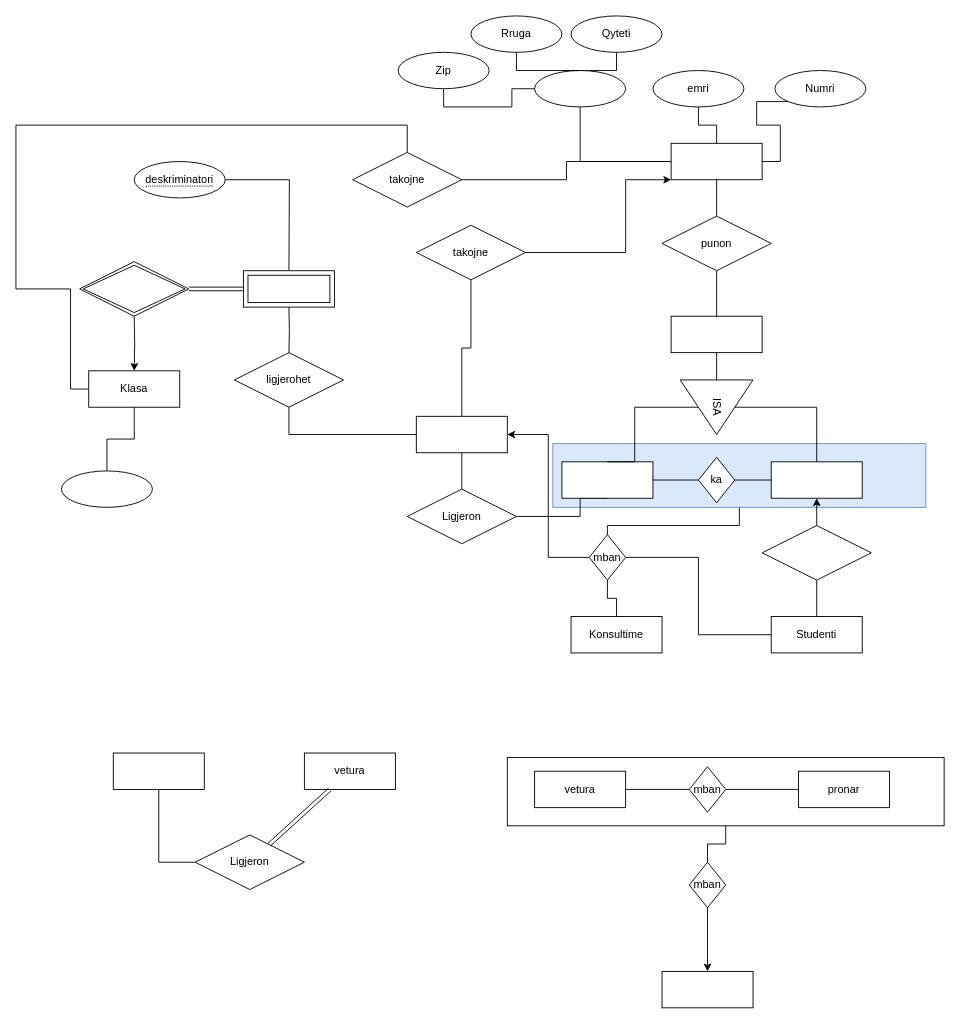
Some shapes in this 960 by 1024 pixel diagram are drawn without their labels. The shapes that lost their labels are listed below. From the top down, each one's centre as x and y in pixels, then its label:
the point at 580,88: Adresa
the point at 716,161: Fakulteti
the point at 134,288: identifikohet
the point at 288,288: Orari
the point at 716,334: Stafi akademik
the point at 461,434: Lenda
the point at 106,488: klasaid
the point at 607,479: profesori
the point at 816,479: Asistenti
the point at 816,552: Keshillon
the point at 158,770: proinari
the point at 707,989: kompania
